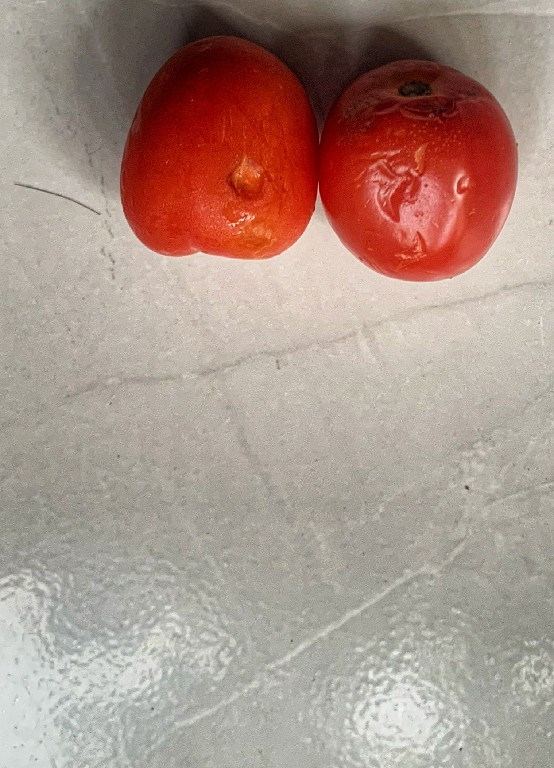NG: (318, 60, 523, 283), (116, 34, 317, 259)
